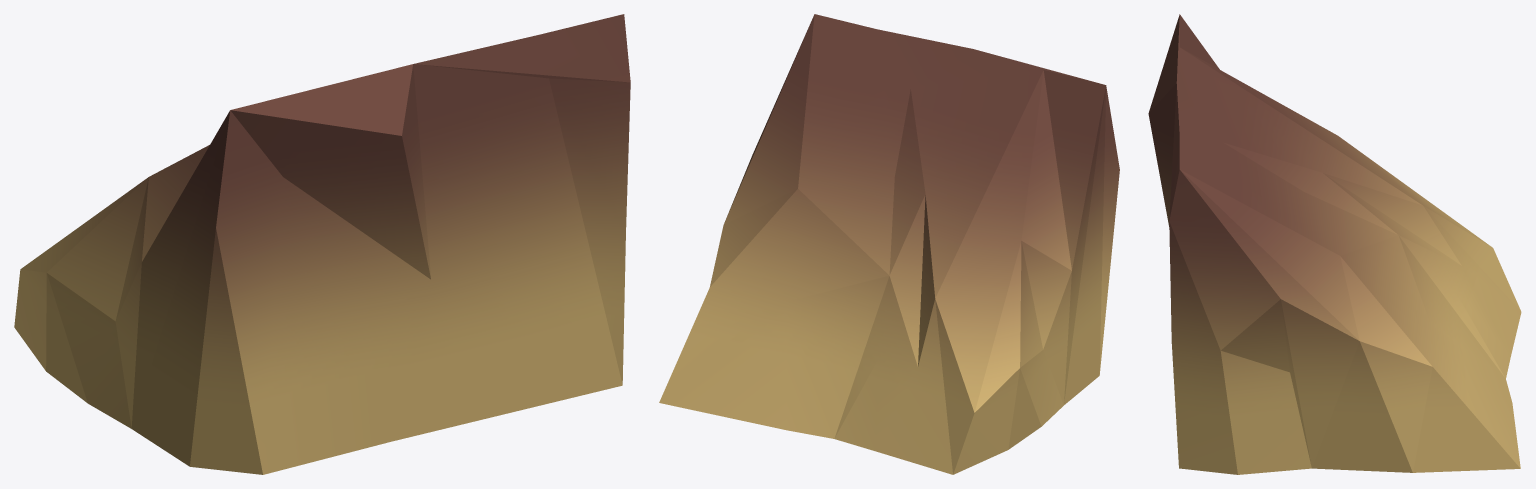
The model's file is Ramp1.fbx.
3 views of the same model, side by side, from view 1: azimuth 30°, elevation 25°; view 2: azimuth 150°, elevation 25°; view 3: azimuth 270°, elevation 25° (orthographic). The views are drawn at different scales.
Visible parts, largest first — view 1: Ramp1; view 2: Ramp1; view 3: Ramp1.
Boxes of the visible parts, x1,y1,x2,y2 form: Ramp1: (14,14,630,474); Ramp1: (659,14,1119,474); Ramp1: (1148,14,1521,474).
Size of the model in its own units: 114 by 90.72 by 101.
